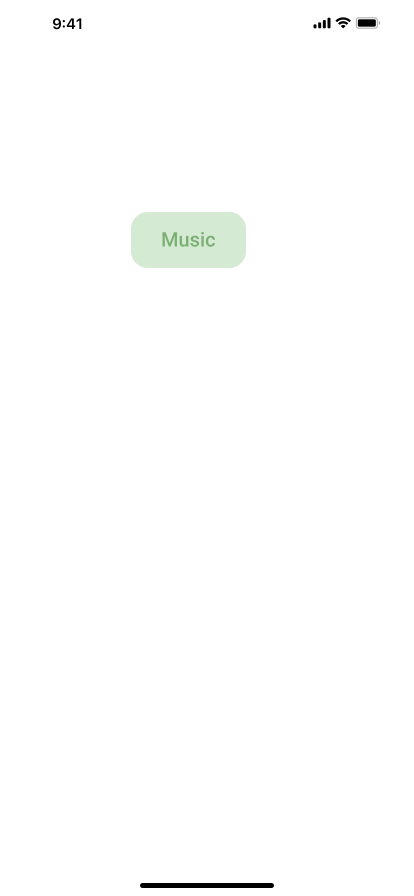Buttons: (131, 212, 254, 268)
Home Indicator: (0, 862, 414, 896)
Status Bar: (0, 0, 414, 44)
